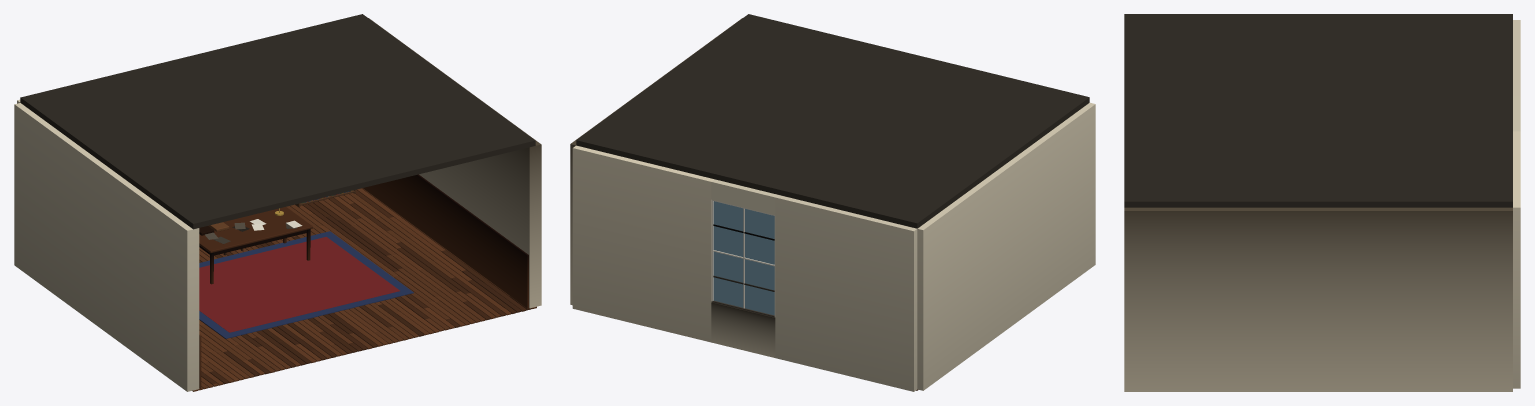
The model's file is office.glb.
The picture shows the model from 3 angles, left to right: view 1: azimuth 30°, elevation 25°; view 2: azimuth 150°, elevation 25°; view 3: azimuth 270°, elevation 25°; orthographic projection. The views are drawn at different scales.
Visible parts, largest first — view 1: office.plaster.8, office.plaster.7, office.plank.1, office.fabric.3, office.plank.0, office.plank.9, office.plank.10, office.fabric.2, office.paper.11; view 2: office.plaster.7, office.plaster.8, office.glass.4, office.paint.5; view 3: office.plaster.8, office.plaster.7.
Part boxes in pixels (x1,y1,x2,y2): office.plaster.8: (20,14,535,229); office.plaster.7: (14,18,541,391); office.plank.1: (192,188,536,391); office.fabric.3: (199,237,399,332); office.plank.0: (199,189,531,384); office.plank.9: (199,174,528,388); office.plank.10: (199,207,312,284); office.fabric.2: (199,231,413,338); office.paper.11: (205,219,302,243); office.plaster.7: (570,18,1095,391); office.plaster.8: (576,14,1089,228); office.glass.4: (713,201,774,315); office.paint.5: (711,200,775,317); office.plaster.8: (1124,14,1512,207); office.plaster.7: (1124,20,1520,391).
Size of the model in its own units: 8.28 by 3.76 by 7.14.
